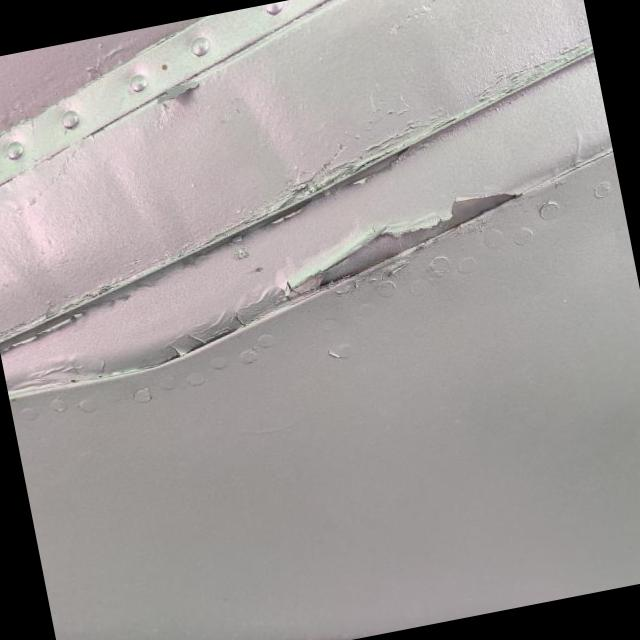Paint-off: (286, 192, 518, 297)
